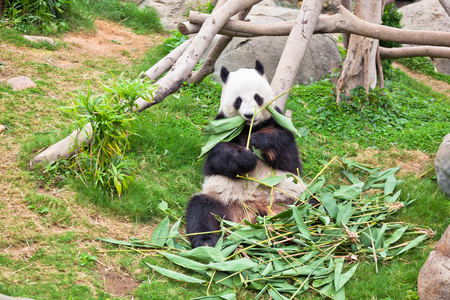panda: (192, 59, 310, 252)
